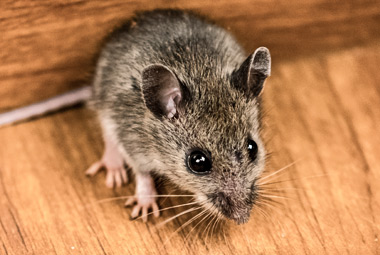mouse: (80, 3, 296, 235)
